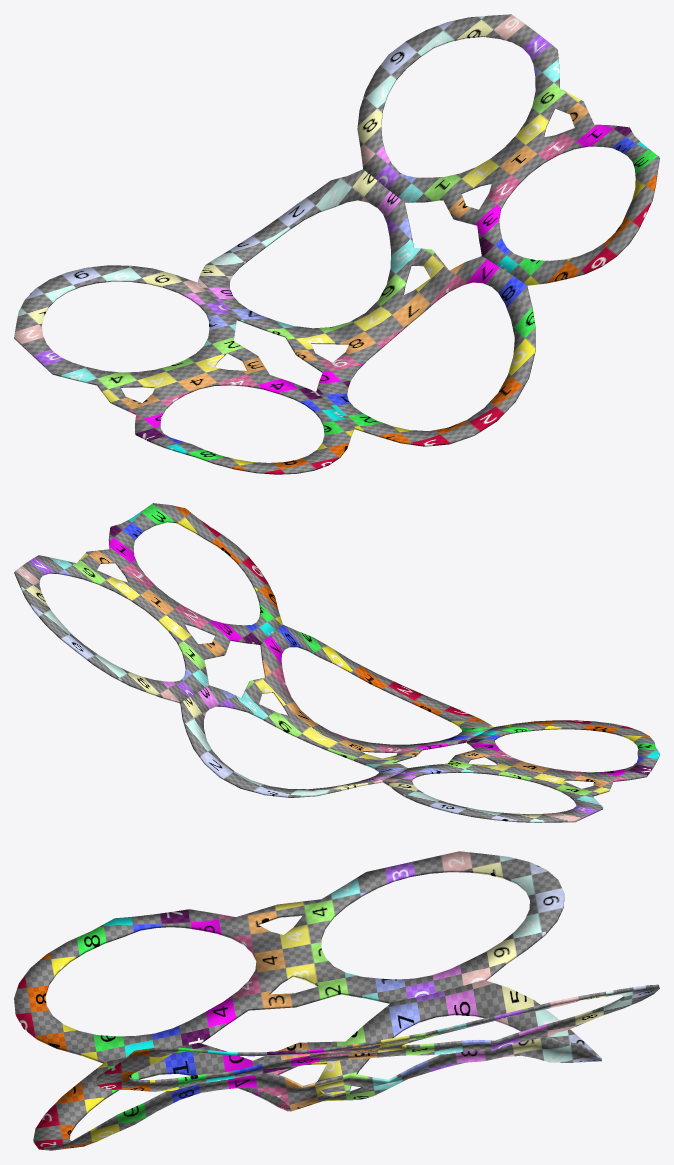
Rendered from sixpack1.fbx.
The picture shows the model from 3 angles, top to bottom: view 1: azimuth 30°, elevation 25°; view 2: azimuth 150°, elevation 25°; view 3: azimuth 270°, elevation 25°; orthographic projection. The views are drawn at different scales.
Visible parts, largest first — view 1: Six pack 1.003; view 2: Six pack 1.003; view 3: Six pack 1.003.
Part boxes in pixels (bbox=[...]): Six pack 1.003: bbox=[14, 14, 659, 474]; Six pack 1.003: bbox=[14, 503, 659, 822]; Six pack 1.003: bbox=[14, 851, 659, 1150].
Size of the model in its own units: 603 by 233 by 442.
